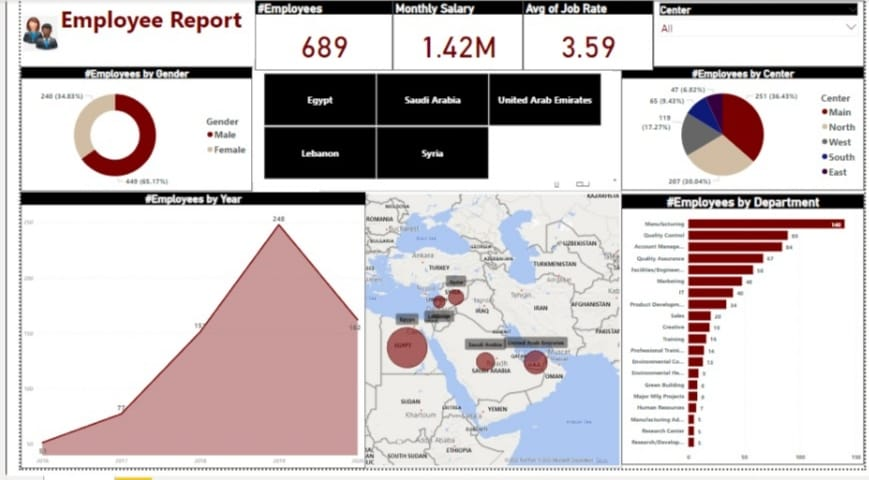

This screenshot's page, from the dashboard's own definition file:
{"tool":"powerbi","page":{"name":"Page 1","canvas":[1800,1000],"ordinal":0},"visuals":[{"type":"clusteredBarChart","title":"#Employees by Department","fields":{"Category":["EmpTable.Department"],"Y":["CountNonNull(EmpTable.No)"]},"box":[1282,414,518,578],"z":0},{"type":"map","fields":{"Category":["EmpTable.Country"],"Size":["CountNonNull(EmpTable.No)"]},"box":[640,408,642,590],"z":1},{"type":"donutChart","fields":{"Category":["EmpTable.Gender"],"Y":["CountNonNull(EmpTable.No)"]},"box":[0,142,494,266],"z":2},{"type":"pieChart","fields":{"Category":["EmpTable.Center"],"Y":["CountNonNull(EmpTable.No)"]},"box":[1282,142,518,264],"z":3},{"type":"areaChart","title":"#Employees by Year","fields":{"Y":["CountNonNull(EmpTable.No)"],"Category":["EmpTable.Start Date.Variation.Date Hierarchy.Year","EmpTable.Start Date.Variation.Date Hierarchy.Month"]},"box":[0,410,736,590],"z":4},{"type":"slicer","fields":{"Values":["EmpTable.Country"]},"box":[494,150,768,238],"z":5},{"type":"card","title":"#Employees","fields":{"Values":["CountNonNull(EmpTable.No)"]},"box":[500,0,294,150],"z":6},{"type":"card","title":"Monthly Salary","fields":{"Values":["Sum(EmpTable.Monthly Salary)"]},"box":[794,0,278,150],"z":7},{"type":"card","title":"Avg of Job Rate","fields":{"Values":["Avg(EmpTable.Job Rate)"]},"box":[1072,0,278,150],"z":8},{"type":"slicer","fields":{"Values":["EmpTable.Center"]},"box":[1350,0,450,142],"z":9},{"type":"textbox","box":[0,0,500,126],"z":11},{"type":"image","box":[0,0,84,142],"z":12}]}

Visuals, with their boxes in screenshot pixels (x1, y1, x2, y2), scaled from the page's 1800x1000 canvas onto the 869x480 screenshot:
"#Employees by Department" clusteredBarChart: 619/199/868/476
map - EmpTable.Country x CountNonNull(EmpTable.No): 309/196/619/479
donutChart - EmpTable.Gender x CountNonNull(EmpTable.No): 0/68/238/196
pieChart - EmpTable.Center x CountNonNull(EmpTable.No): 619/68/868/195
"#Employees by Year" areaChart: 0/197/355/479
slicer - EmpTable.Country: 238/72/609/186
"#Employees" card: 241/0/383/72
"Monthly Salary" card: 383/0/518/72
"Avg of Job Rate" card: 518/0/652/72
slicer - EmpTable.Center: 652/0/868/68
textbox: 0/0/241/60
image: 0/0/41/68
